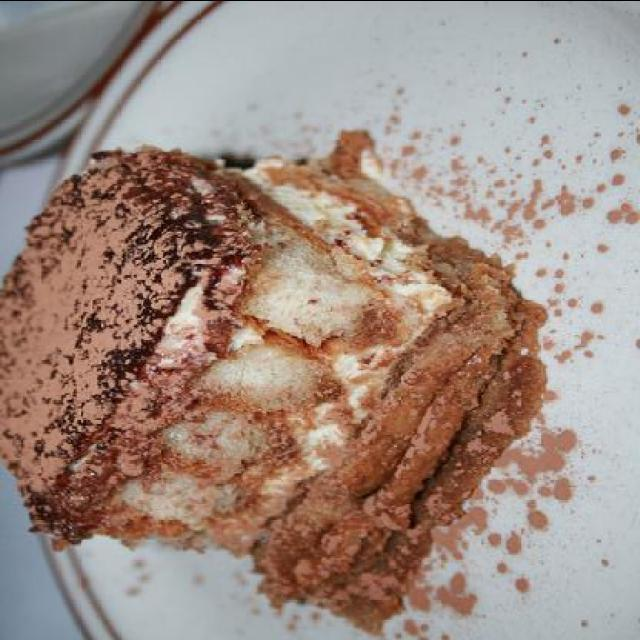Tiramisu: (14, 162, 502, 560)
